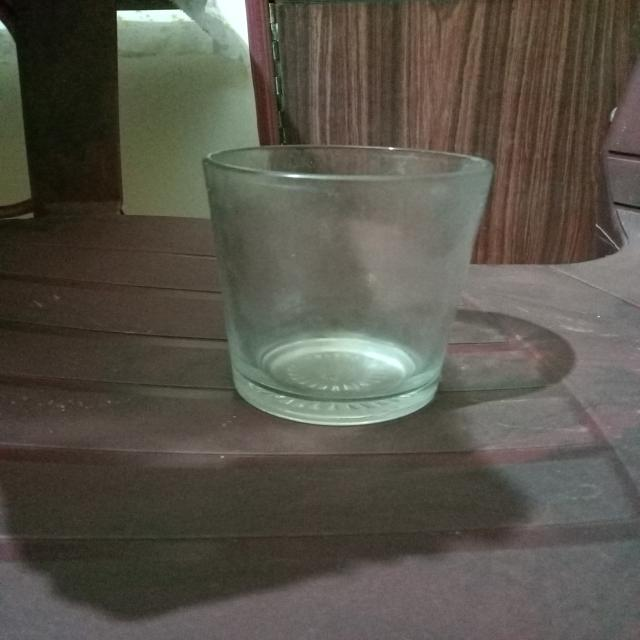Glass: (199, 138, 500, 428)
